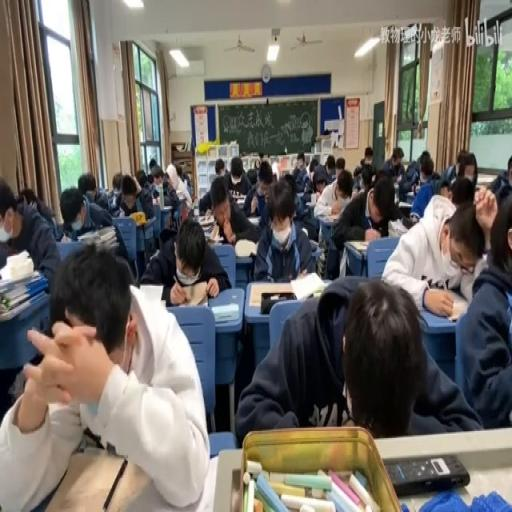calculator: (0, 287, 46, 321), (430, 286, 472, 321), (246, 282, 292, 308), (290, 269, 326, 300), (104, 212, 152, 229), (165, 294, 206, 310), (75, 429, 104, 451), (210, 300, 238, 322), (137, 282, 165, 302), (234, 236, 256, 256), (160, 202, 174, 232), (95, 224, 115, 244), (386, 218, 408, 236), (204, 224, 222, 242), (196, 213, 214, 226), (228, 194, 246, 206), (320, 212, 339, 222), (246, 214, 260, 224), (295, 189, 308, 199), (306, 196, 316, 208), (398, 199, 412, 206), (152, 196, 159, 205)
paper: (5, 240, 206, 508), (234, 267, 477, 441), (380, 181, 490, 314), (142, 209, 227, 302), (59, 180, 133, 274), (0, 179, 59, 292), (331, 170, 391, 254), (198, 159, 248, 218), (287, 168, 322, 237), (242, 159, 277, 218), (488, 192, 512, 276), (408, 152, 442, 206), (145, 162, 179, 215), (444, 146, 478, 194), (485, 155, 512, 203), (76, 172, 98, 203), (179, 165, 192, 198), (344, 223, 366, 242), (18, 186, 38, 206), (336, 175, 352, 200), (104, 189, 121, 212), (282, 174, 297, 200), (372, 168, 390, 189), (360, 162, 374, 189), (364, 188, 375, 218), (134, 168, 148, 190), (334, 155, 345, 178), (325, 155, 335, 179), (179, 202, 189, 226), (112, 171, 123, 192), (214, 160, 226, 178), (363, 146, 373, 166), (270, 159, 280, 179), (392, 148, 403, 165), (456, 158, 466, 175), (309, 158, 318, 176), (148, 158, 158, 173), (352, 164, 362, 176), (162, 175, 170, 188), (430, 170, 440, 180), (297, 156, 304, 170), (176, 164, 182, 179), (253, 156, 259, 170), (359, 158, 365, 166)
person: (386, 452, 470, 494)
